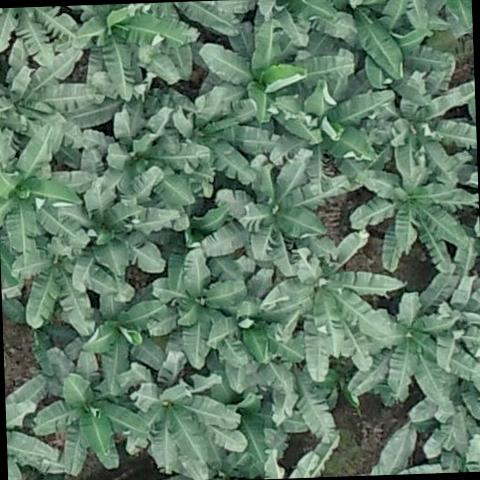Banana-plant: (272, 230, 408, 382), (200, 13, 353, 125), (200, 149, 327, 277), (352, 163, 480, 274), (56, 182, 183, 292), (365, 62, 478, 178), (128, 369, 246, 480), (16, 233, 133, 339), (348, 295, 456, 402), (84, 106, 206, 200), (38, 373, 146, 476), (77, 2, 189, 99), (151, 257, 247, 368), (271, 80, 376, 179), (213, 288, 304, 392), (0, 137, 79, 253), (0, 53, 95, 142), (85, 284, 164, 380), (187, 103, 274, 186)
